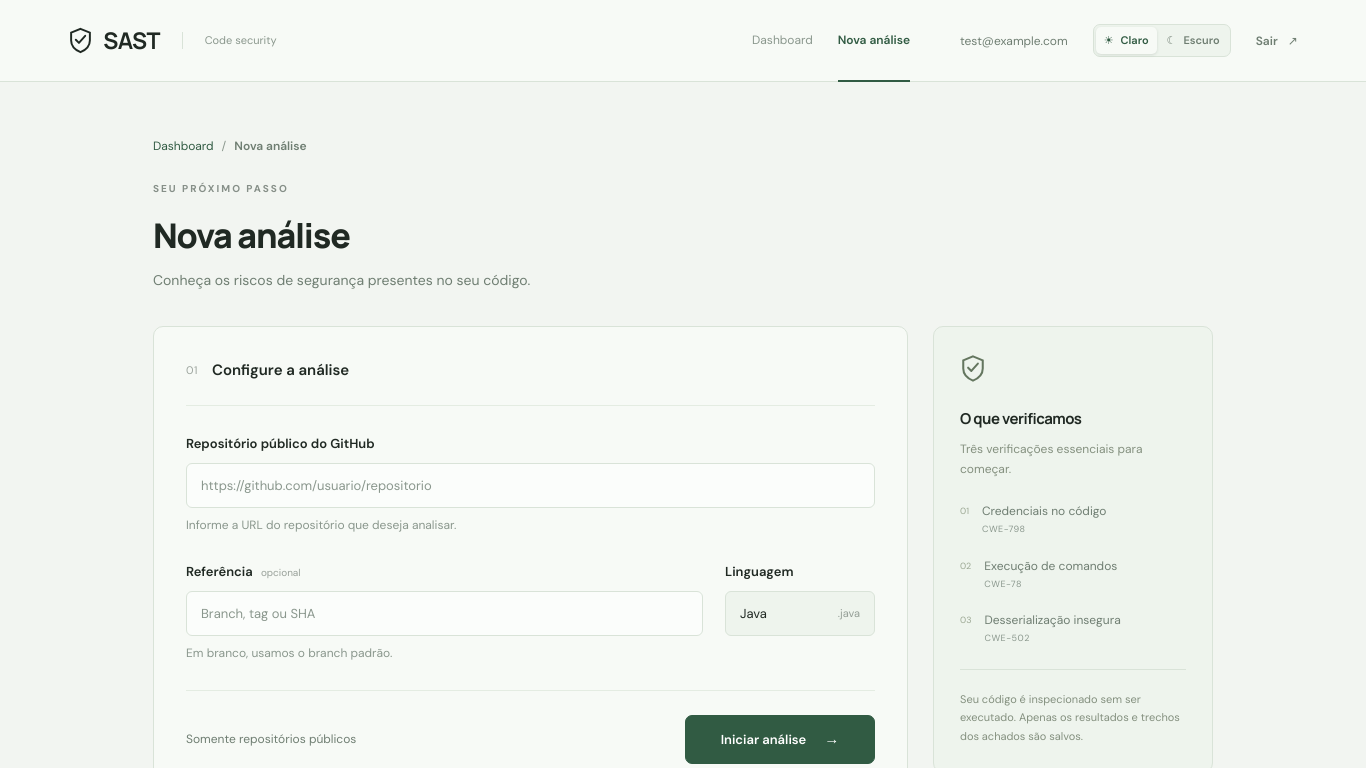
Test case: fluxo autenticado da análise › libera o dashboard após concluir uma análise
The width and height of the screenshot is (1366, 768).
Type "https://github.com/acme/demo" into the field labelled "Repositório público do GitHub".
click(530, 485); type("https://github.com/acme/demo")  # box [186,462,875,508]
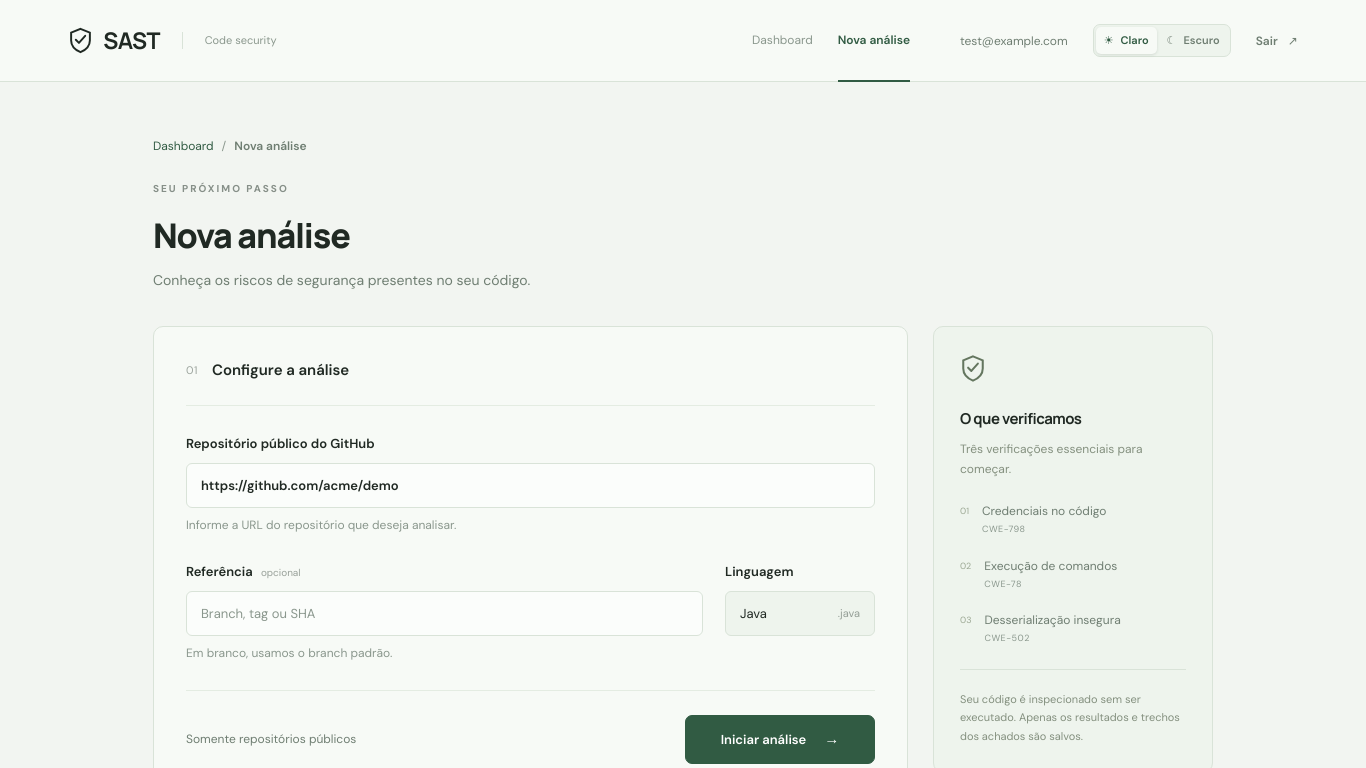
Click the button "Iniciar análise →".
click(780, 739)  # box [685,715,875,764]
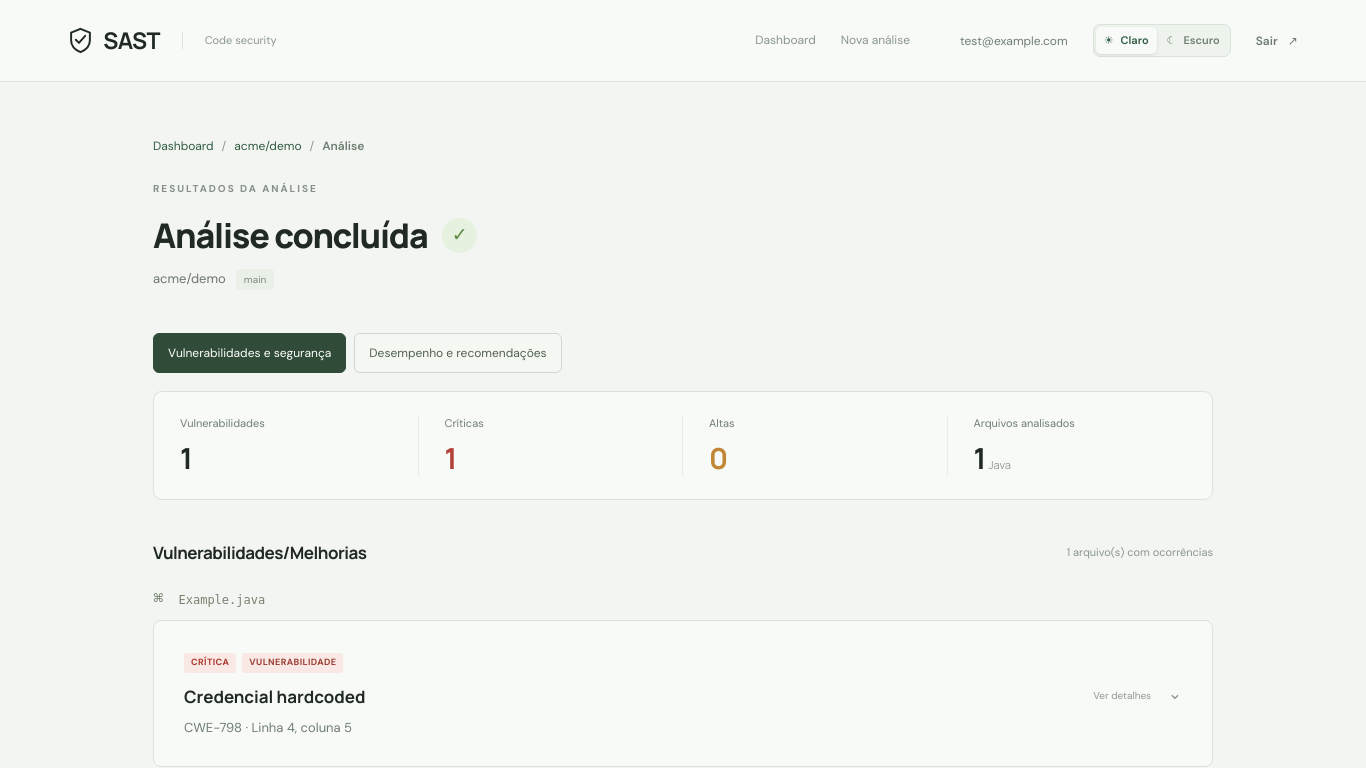
Now the heading "Análise concluída ✓" is shown, box [153,214,476,256]
